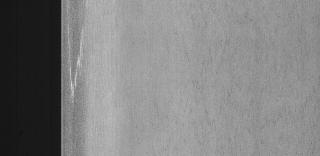silk spot: (64, 24, 106, 98)
